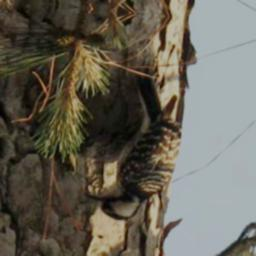Woodpecker: (80, 67, 191, 227)
